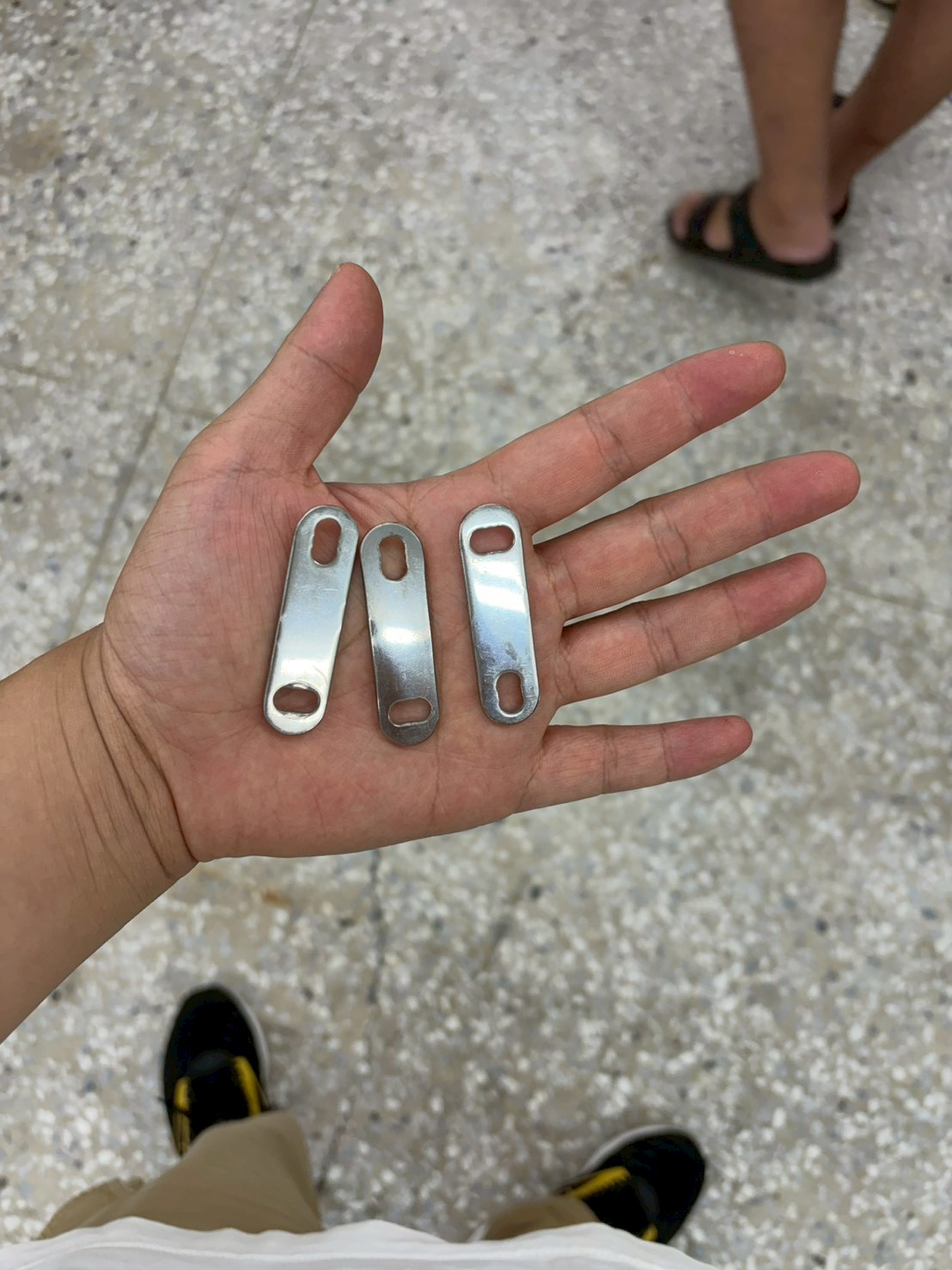Fe: (300, 498, 369, 733), (356, 523, 425, 749), (447, 506, 516, 732)
